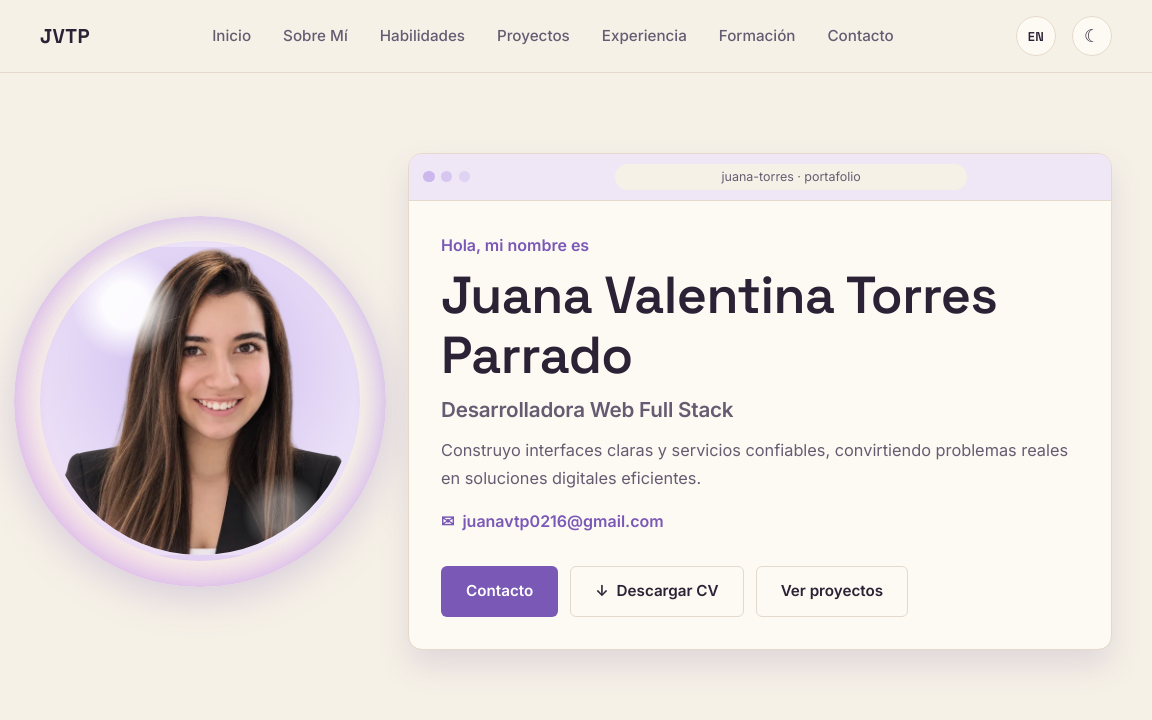
Test: language switch › switches the whole page to English and persists the choice
expect the link "Sobre Mí" is shown: met, box [283, 26, 348, 45]
Click the button with aria-label "cambiar idioma a inglés" at point(1036, 36), box [1016, 16, 1056, 56]
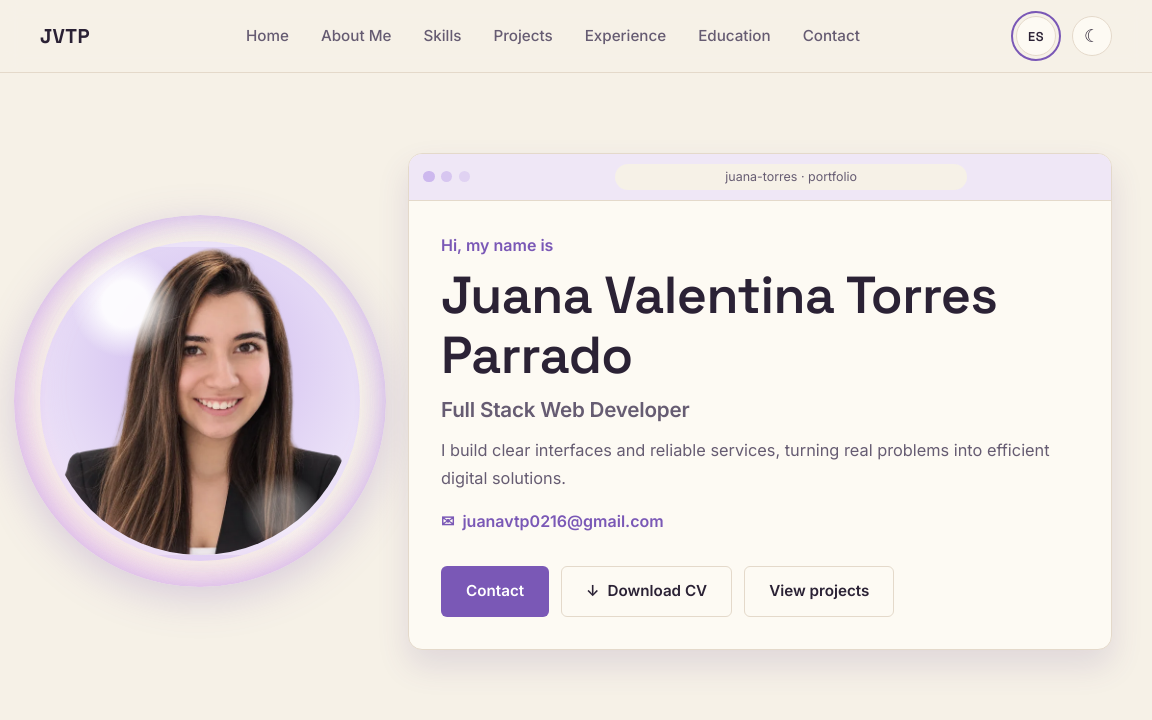
expect the link "About Me" is shown: met, box [321, 26, 392, 45]
